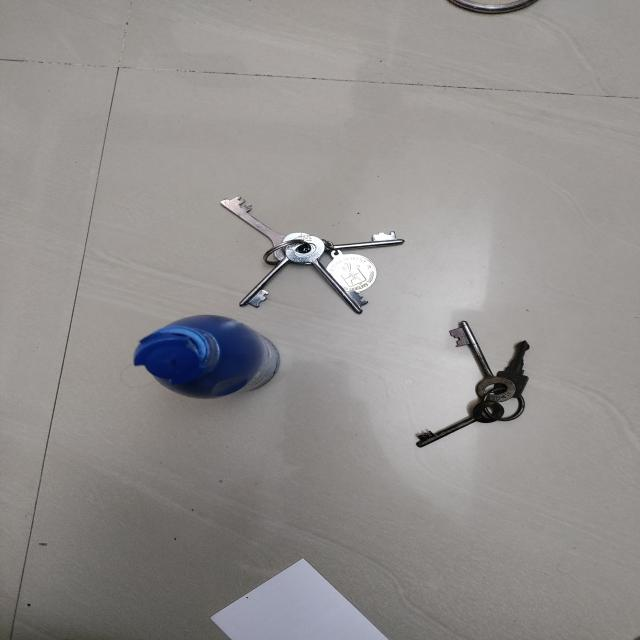metal: (218, 193, 405, 312), (416, 319, 529, 445), (446, 0, 540, 14)
plastic: (132, 313, 281, 400)
